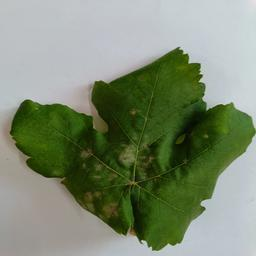Powdery-Mildew: (84, 191, 122, 225), (115, 142, 151, 177), (78, 145, 117, 177), (127, 106, 138, 117), (176, 132, 187, 143)
